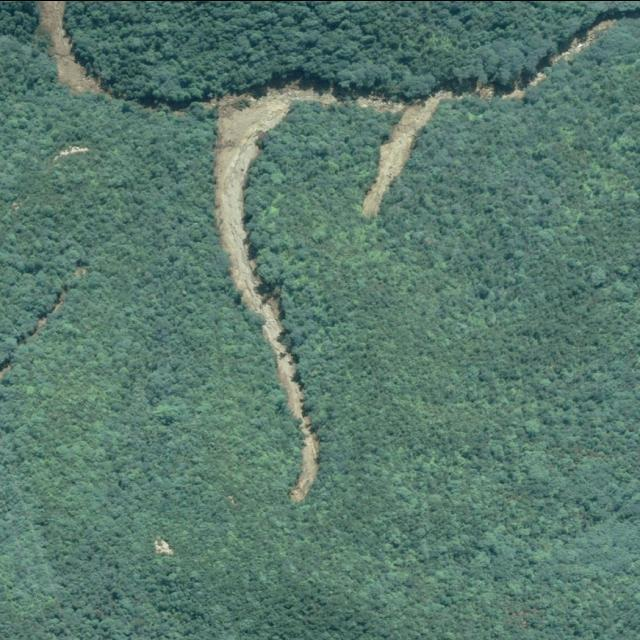landslide: (215, 85, 338, 502), (357, 89, 461, 216), (38, 0, 105, 92), (553, 18, 615, 61)
